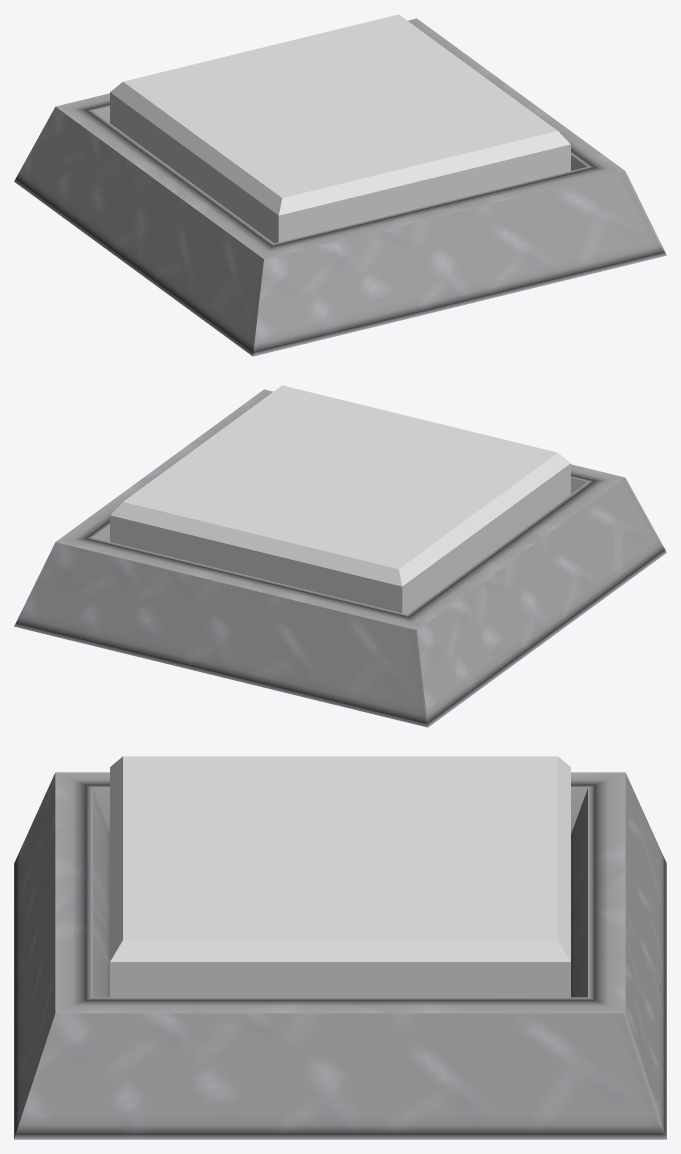
The model's file is level_zone01_button.fbx.
3 renders of one model, top to bottom at view 1: azimuth 30°, elevation 25°; view 2: azimuth 150°, elevation 25°; view 3: azimuth 270°, elevation 25°, orthographic. The views are drawn at different scales.
Visible parts, largest first — view 1: level_zone01_button, button; view 2: level_zone01_button, button; view 3: level_zone01_button, button.
Boxes of the visible parts, x1,y1,x2,y2 form: level_zone01_button: (14, 18, 666, 356); button: (110, 14, 570, 243); level_zone01_button: (14, 389, 666, 727); button: (110, 385, 570, 614); level_zone01_button: (14, 772, 666, 1139); button: (110, 756, 570, 997).
Size of the model in its own units: 109 by 28.17 by 109.
